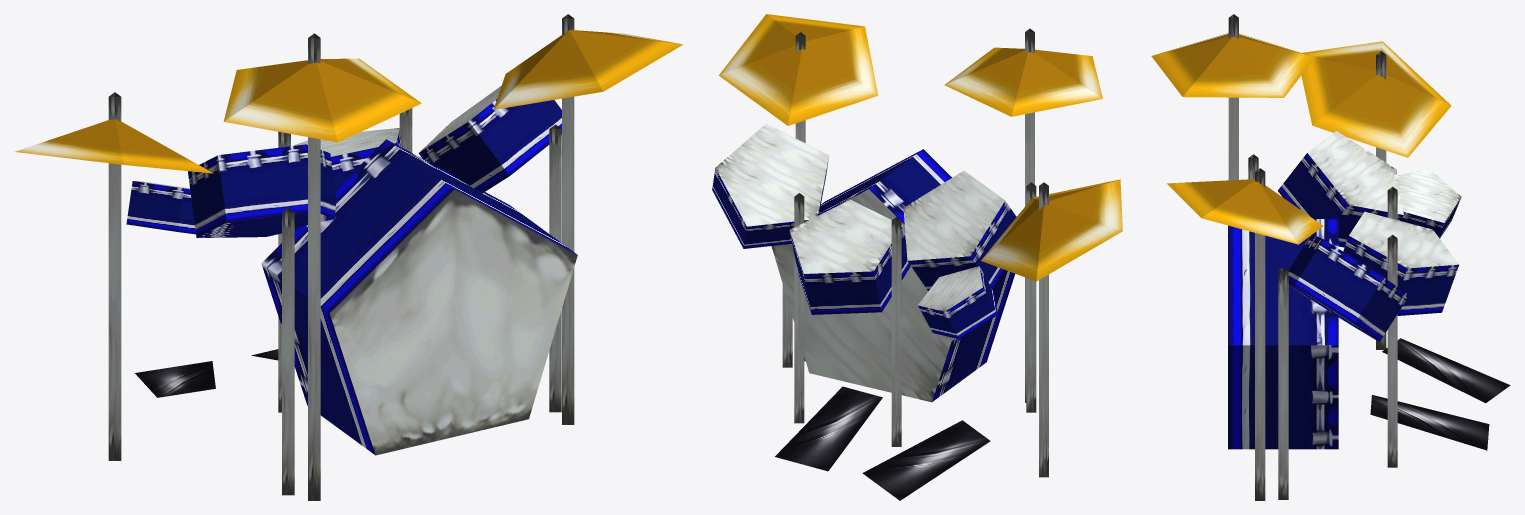
The model's file is Schlagzeug_1698.glb.
3 views of the same model, side by side, from view 1: azimuth 30°, elevation 25°; view 2: azimuth 150°, elevation 25°; view 3: azimuth 270°, elevation 25° (orthographic). The views are drawn at different scales.
Parts seen in each view (by area): view 1: pPlaneShape17, pCylinderShape6, pSphereShape5, pCylinderShape8, pSphereShape6, pCylinderShape7, pCylinderShape15, pSphereShape7, pCylinderShape32, pCylinderShape30, pCylinderShape12, pCylinderShape9 (+3 smaller); view 2: pCylinderShape6, pSphereShape6, pCylinderShape31, pCylinderShape7, pCylinderShape8, pSphereShape7, pSphereShape5, pPlaneShape15, pPlaneShape16, pCylinderShape9, pCylinderShape13, pCylinderShape32 (+4 smaller); view 3: pCylinderShape6, pSphereShape7, pCylinderShape8, pSphereShape5, pCylinderShape7, pCylinderShape31, pSphereShape6, pCylinderShape30, pCylinderShape9, pPlaneShape15, pPlaneShape16, pCylinderShape11 (+3 smaller).
Part boxes in pixels (x1=…): pPlaneShape17: x1=329, y1=189, x2=577, y2=455; pCylinderShape6: x1=261, y1=139, x2=575, y2=455; pSphereShape5: x1=223, y1=58, x2=421, y2=142; pCylinderShape8: x1=188, y1=144, x2=336, y2=238; pSphereShape6: x1=493, y1=30, x2=683, y2=109; pCylinderShape7: x1=418, y1=86, x2=561, y2=193; pCylinderShape15: x1=308, y1=33, x2=320, y2=500; pSphereShape7: x1=15, y1=119, x2=213, y2=173; pCylinderShape32: x1=108, y1=92, x2=121, y2=460; pCylinderShape30: x1=562, y1=14, x2=574, y2=424; pCylinderShape12: x1=282, y1=208, x2=294, y2=495; pCylinderShape9: x1=126, y1=181, x2=195, y2=234; pCylinderShape6: x1=771, y1=149, x2=1014, y2=402; pSphereShape6: x1=719, y1=14, x2=878, y2=125; pCylinderShape31: x1=789, y1=199, x2=910, y2=314; pCylinderShape7: x1=712, y1=123, x2=829, y2=248; pCylinderShape8: x1=903, y1=170, x2=1016, y2=290; pSphereShape7: x1=981, y1=179, x2=1122, y2=281; pSphereShape5: x1=944, y1=47, x2=1102, y2=116; pPlaneShape15: x1=862, y1=420, x2=990, y2=500; pPlaneShape16: x1=775, y1=386, x2=882, y2=471; pCylinderShape9: x1=918, y1=266, x2=997, y2=339; pCylinderShape13: x1=891, y1=216, x2=901, y2=446; pCylinderShape32: x1=1039, y1=182, x2=1048, y2=477; pCylinderShape6: x1=1228, y1=219, x2=1338, y2=449; pSphereShape7: x1=1301, y1=41, x2=1451, y2=157; pCylinderShape8: x1=1278, y1=131, x2=1403, y2=247; pSphereShape5: x1=1151, y1=33, x2=1315, y2=97; pCylinderShape7: x1=1288, y1=234, x2=1409, y2=341; pCylinderShape31: x1=1343, y1=211, x2=1458, y2=315; pSphereShape6: x1=1167, y1=179, x2=1323, y2=244; pCylinderShape30: x1=1255, y1=168, x2=1265, y2=500; pCylinderShape9: x1=1397, y1=168, x2=1461, y2=238; pPlaneShape15: x1=1382, y1=338, x2=1510, y2=403; pPlaneShape16: x1=1370, y1=395, x2=1489, y2=450; pCylinderShape11: x1=1278, y1=267, x2=1288, y2=499.
Bounding box in the file's own units: 0.4132 × 0.3294 × 0.285.
Materials: 23 (23 with a texture image).
